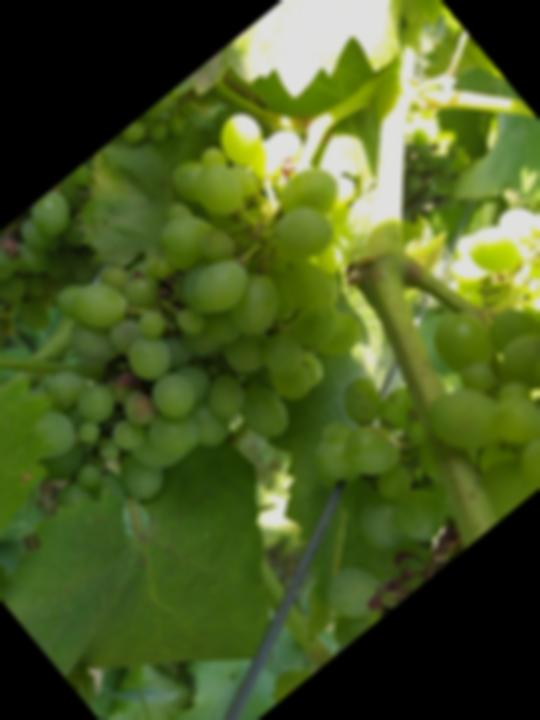grape: (0, 79, 454, 581)
